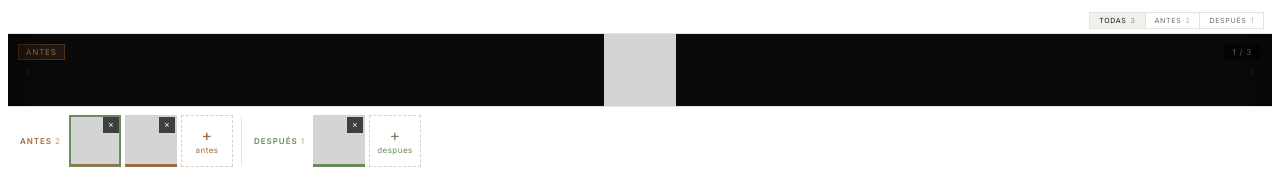
PhotoGallery · orden de las fotos › apaga la flecha en el borde del grupo, para que una foto no salte de sección
Hover over the 2nd element showing "×" at (151, 141), box [125, 115, 177, 167]
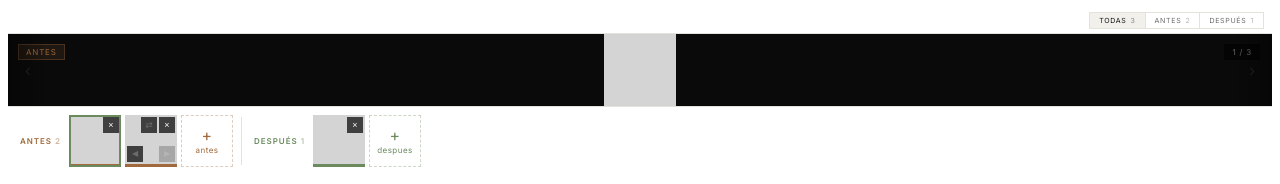
Now the button titled "Mover a la derecha" is disabled, box [159, 146, 175, 162]
Now the button titled "Mover a la izquierda" is enabled, box [127, 146, 143, 162]
Hover over the 1st element showing "×" at (95, 141), box [69, 115, 121, 167]
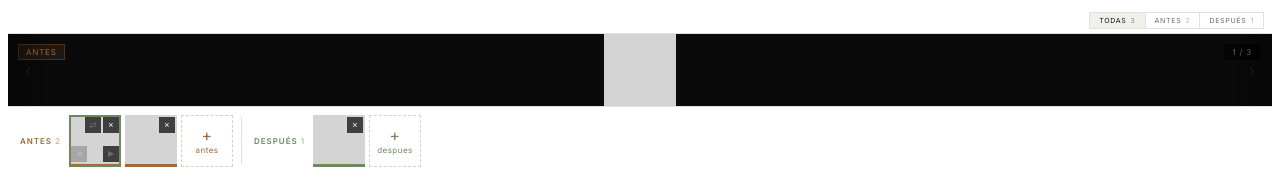
Now the button titled "Mover a la izquierda" is disabled, box [71, 146, 87, 162]
